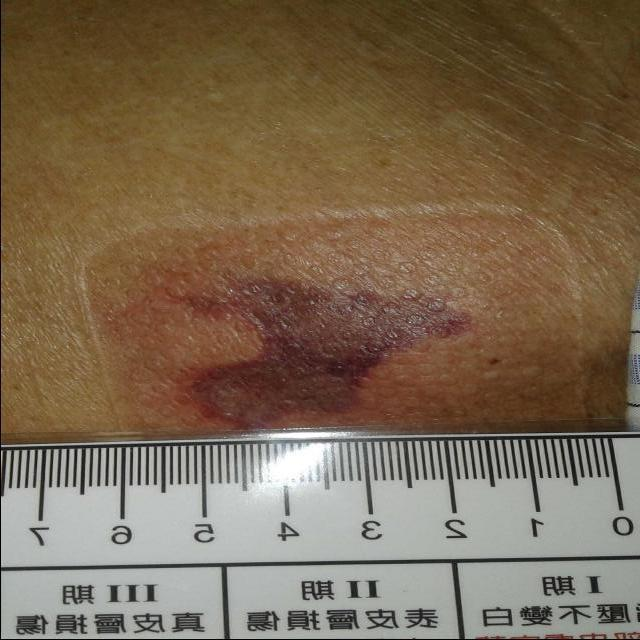DTI: (180, 273, 465, 426)
